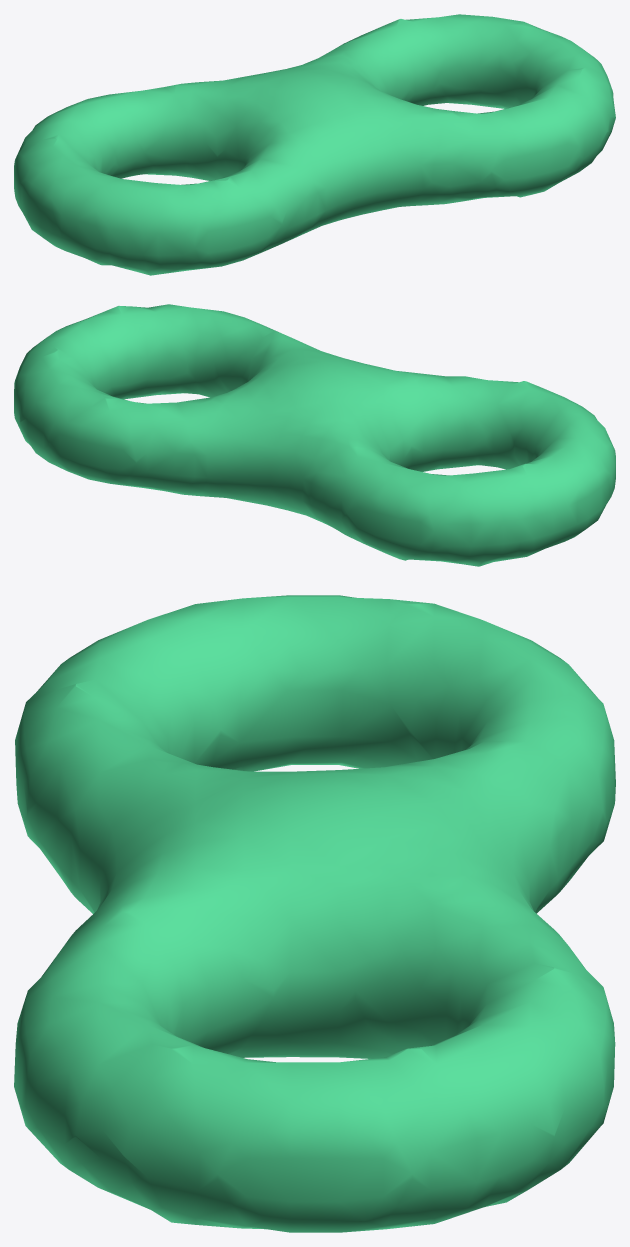
Rendered from eight.fbx.
3 renders of one model, top to bottom at view 1: azimuth 30°, elevation 25°; view 2: azimuth 150°, elevation 25°; view 3: azimuth 270°, elevation 25°, orthographic. The views are drawn at different scales.
Visible parts, largest first — view 1: 0eight; view 2: 0eight; view 3: 0eight.
Part boxes in pixels (left/top/right/bottom): 0eight: left=14, top=14, right=615, bottom=275; 0eight: left=14, top=304, right=615, bottom=566; 0eight: left=14, top=595, right=615, bottom=1232.
Size of the model in its own units: 200 by 40.83 by 95.47.
